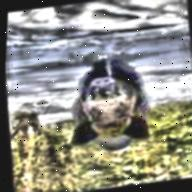boar: (52, 43, 161, 161)
